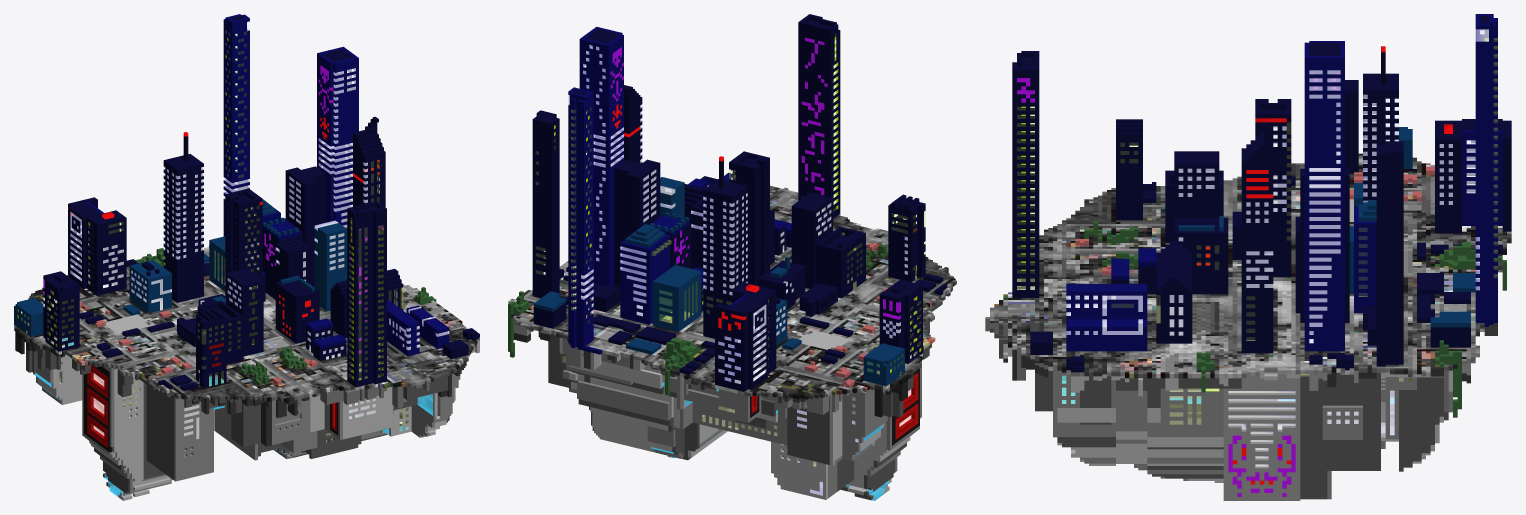
Rendered from electronics.glb.
3 renders of one model, left to right at view 1: azimuth 30°, elevation 25°; view 2: azimuth 150°, elevation 25°; view 3: azimuth 270°, elevation 25°, orthographic. The views are drawn at different scales.
Parts seen in each view (by area): view 1: VoxelSciFiCity2; view 2: VoxelSciFiCity2; view 3: VoxelSciFiCity2.
Boxes of the visible parts, x1=… form: VoxelSciFiCity2: x1=14, y1=14, x2=479, y2=500; VoxelSciFiCity2: x1=508, y1=14, x2=956, y2=500; VoxelSciFiCity2: x1=985, y1=14, x2=1511, y2=500.
Size of the model in its own units: 230 by 235 by 228.
7 materials, 7 textured.
